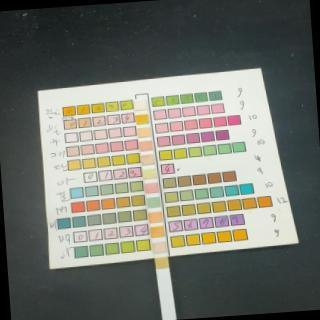mark: (145, 182, 159, 194), (156, 256, 168, 269), (154, 241, 166, 253), (151, 226, 163, 238), (150, 211, 162, 223), (148, 196, 160, 208), (144, 168, 156, 179), (143, 154, 154, 165), (135, 99, 145, 110), (138, 114, 148, 124), (142, 141, 152, 150), (140, 128, 150, 137)
